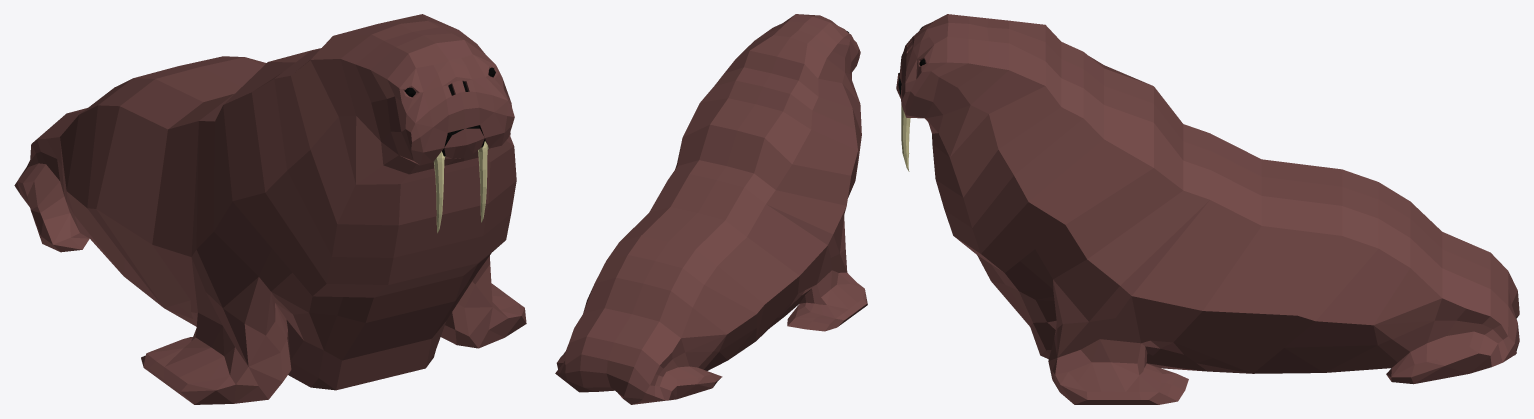
File: Walrus.glb
The picture shows the model from 3 angles, left to right: view 1: azimuth 30°, elevation 25°; view 2: azimuth 150°, elevation 25°; view 3: azimuth 270°, elevation 25°; orthographic projection. The views are drawn at different scales.
Visible parts, largest first — view 1: Walrus; view 2: Walrus; view 3: Walrus.
Boxes of the visible parts, box(x1,y1,x2,y2) form: Walrus: box(14, 14, 526, 404); Walrus: box(555, 14, 867, 404); Walrus: box(896, 14, 1519, 404).
Size of the model in its own units: 1.61 by 1.69 by 3.03.
